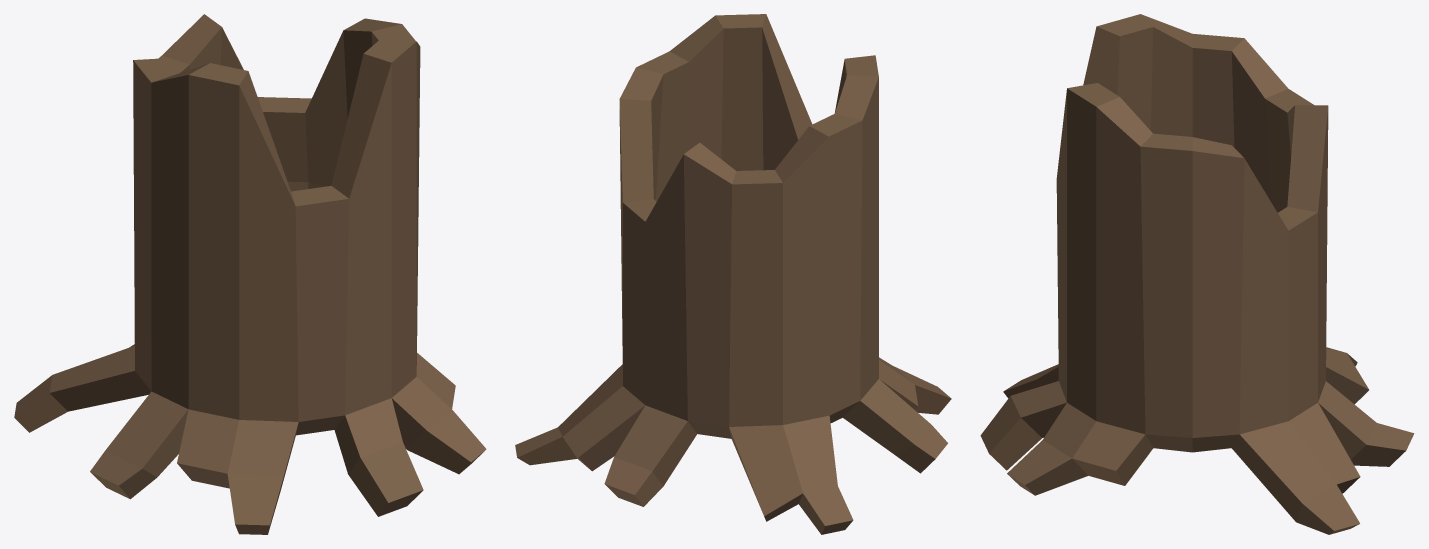
Rendered from wood3.glb.
3 renders of one model, left to right at view 1: azimuth 30°, elevation 25°; view 2: azimuth 150°, elevation 25°; view 3: azimuth 270°, elevation 25°, orthographic. The views are drawn at different scales.
Visible parts, largest first — view 1: Circle; view 2: Circle; view 3: Circle.
Boxes of the visible parts, <box> form: Circle: <box>14,14,486,534</box>; Circle: <box>515,14,951,534</box>; Circle: <box>980,14,1414,534</box>.
Bounding box in the file's own units: 0.9111 × 0.9575 × 0.9604.
